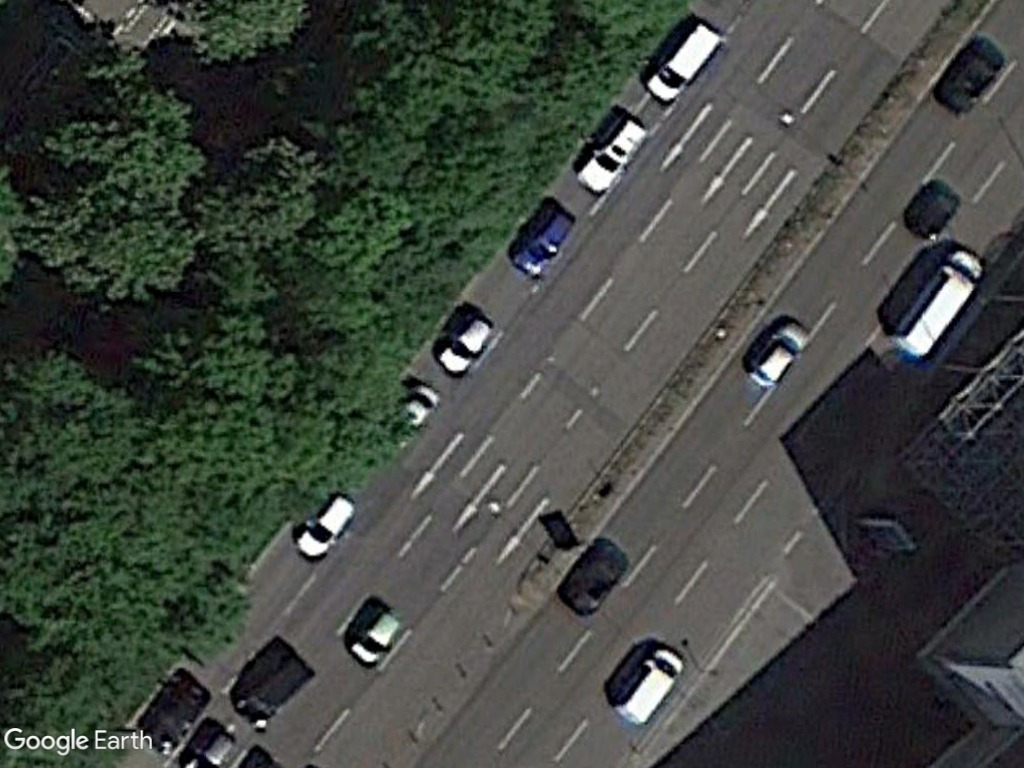car: (571, 115, 645, 198), (293, 490, 359, 563), (745, 319, 812, 390), (434, 310, 497, 380), (347, 609, 403, 670)
van: (892, 248, 985, 361), (642, 18, 723, 108), (612, 646, 686, 731)
